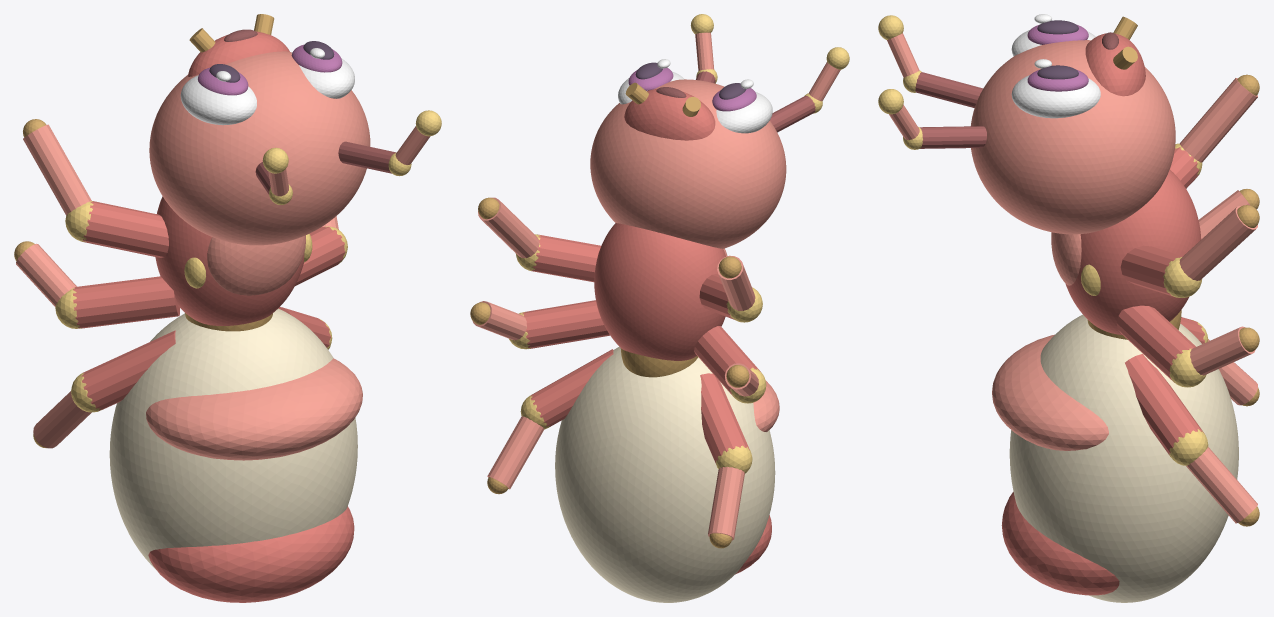
File: ant_worker.glb
The picture shows the model from 3 angles, left to right: view 1: azimuth 30°, elevation 25°; view 2: azimuth 150°, elevation 25°; view 3: azimuth 270°, elevation 25°; orthographic projection. The views are drawn at different scales.
Visible parts, largest first — view 1: Abdomen_Main_Cream, Head, Abdomen_Red_Band_Front, Abdomen_Red_Band_Rear, Thorax, Thorax_Bib, Leg_2_Upper, Leg_1_Upper, Leg_3_Upper, Leg_1_Lower, Eye_L_White, Face_Muzzle (+12 smaller); view 2: Abdomen_Main_Cream, Head, Thorax, Face_Muzzle, Leg_5_Upper, Leg_3_Upper, Leg_4_Upper, Leg_6_Upper, Leg_6_Lower, Leg_3_Lower, Leg_2_Upper, Leg_4_Lower (+14 smaller); view 3: Abdomen_Main_Cream, Head, Thorax, Abdomen_Red_Band_Front, Abdomen_Red_Band_Rear, Leg_6_Upper, Leg_5_Upper, Leg_1_Lower, Eye_R_White, Leg_4_Lower, Leg_6_Lower, Face_Muzzle (+16 smaller).
Part boxes in pixels (<box>): Abdomen_Main_Cream: <box>109,308,357,570</box>; Head: <box>149,51,370,245</box>; Abdomen_Red_Band_Front: <box>146,358,362,460</box>; Abdomen_Red_Band_Rear: <box>148,506,354,602</box>; Thorax: <box>155,196,304,325</box>; Thorax_Bib: <box>207,235,305,295</box>; Leg_2_Upper: <box>73,276,179,328</box>; Leg_1_Upper: <box>82,201,168,257</box>; Leg_3_Upper: <box>81,330,175,410</box>; Leg_1_Lower: <box>23,124,91,215</box>; Eye_L_White: <box>180,75,256,125</box>; Face_Muzzle: <box>188,31,289,76</box>; Abdomen_Main_Cream: <box>555,346,775,602</box>; Head: <box>590,79,786,248</box>; Thorax: <box>594,223,725,360</box>; Face_Muzzle: <box>624,88,715,140</box>; Leg_5_Upper: <box>522,300,609,348</box>; Leg_3_Upper: <box>700,373,749,464</box>; Leg_4_Upper: <box>531,234,600,282</box>; Leg_6_Upper: <box>530,349,613,426</box>; Leg_6_Lower: <box>487,416,544,489</box>; Leg_3_Lower: <box>708,466,744,540</box>; Leg_2_Upper: <box>694,326,760,396</box>; Leg_4_Lower: <box>478,197,539,258</box>; Abdomen_Main_Cream: <box>1009,314,1238,602</box>; Head: <box>971,40,1175,234</box>; Thorax: <box>1065,169,1201,334</box>; Abdomen_Red_Band_Front: <box>992,334,1108,450</box>; Abdomen_Red_Band_Rear: <box>1001,492,1119,595</box>; Leg_6_Upper: <box>1125,354,1204,456</box>; Leg_5_Upper: <box>1116,305,1195,382</box>; Leg_1_Lower: <box>1180,78,1257,162</box>; Eye_R_White: <box>1011,75,1100,118</box>; Leg_4_Lower: <box>1179,206,1257,280</box>; Leg_6_Lower: <box>1186,447,1257,523</box>; Face_Muzzle: <box>1085,33,1145,96</box>.
Bounding box in the file's own units: 1.8 × 3.13 × 1.93.
